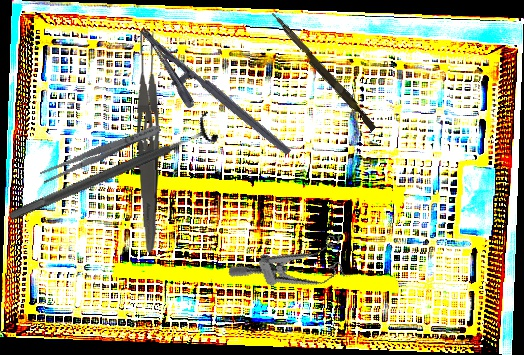Dressing Forceps: (38, 120, 164, 186), (133, 29, 166, 253)
Fixation Ring: (2, 110, 221, 232)
Needle Holder: (121, 25, 293, 177)
Pusher: (266, 11, 380, 132)
Speculum: (225, 223, 358, 317)
